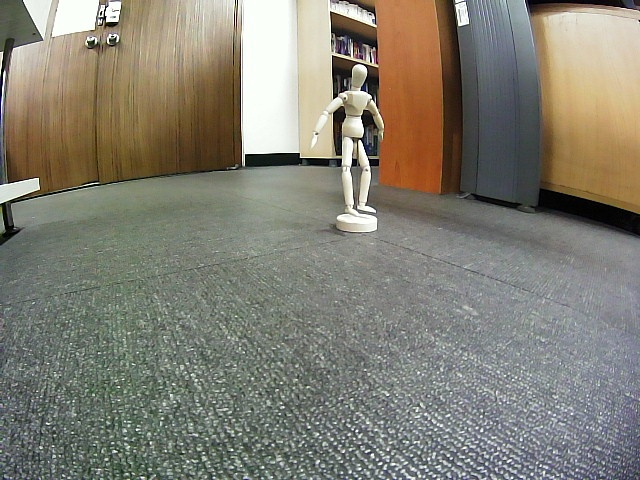person: (311, 63, 385, 216)
